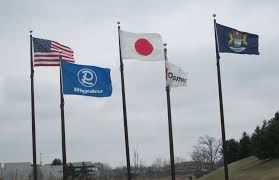Japanese Flag: (117, 27, 168, 61)
